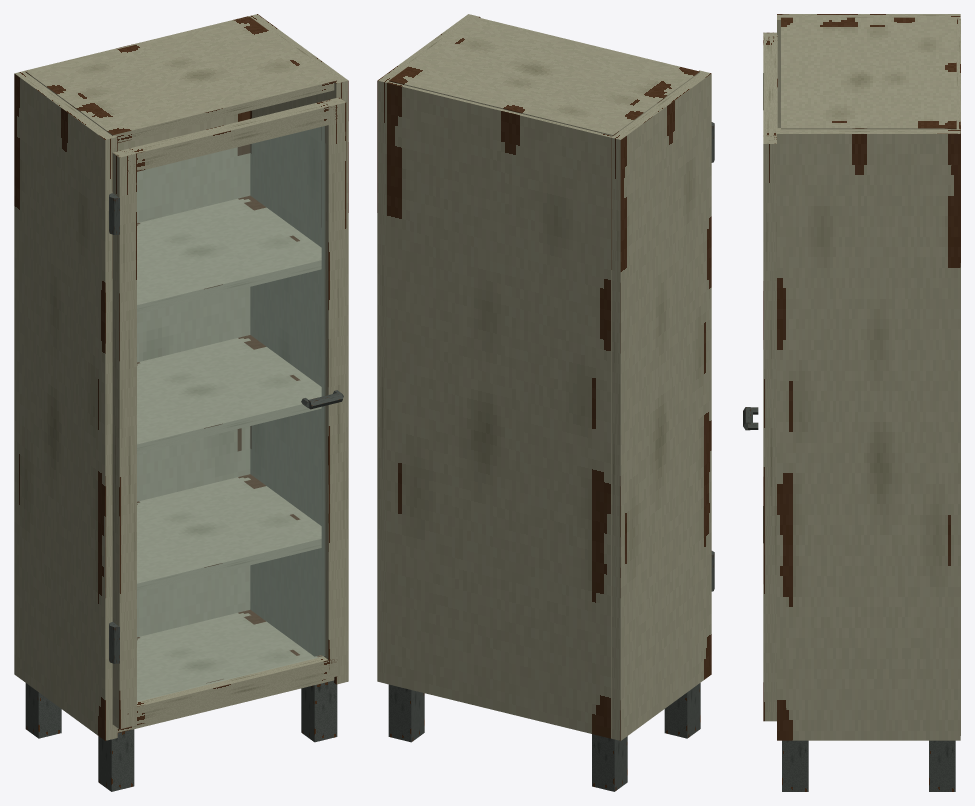
The model's file is medicine_cabinet.glb.
The picture shows the model from 3 angles, left to right: view 1: azimuth 30°, elevation 25°; view 2: azimuth 150°, elevation 25°; view 3: azimuth 270°, elevation 25°; orthographic projection.
Visible parts, largest first — view 1: 05_Medicine_Cabinet_Treatment_|_Shared_Pixel_Atlas.001, Cabinet_Glass.001, Medicine_Door_Hinge_Treatment_|_Shared_Pixel_Atlas.001; view 2: 05_Medicine_Cabinet_Treatment_|_Shared_Pixel_Atlas.001; view 3: 05_Medicine_Cabinet_Treatment_|_Shared_Pixel_Atlas.001, Medicine_Door_Hinge_Treatment_|_Shared_Pixel_Atlas.001.
Part boxes in pixels (x1=…): 05_Medicine_Cabinet_Treatment_|_Shared_Pixel_Atlas.001: x1=14, y1=14, x2=348, y2=791; Cabinet_Glass.001: x1=137, y1=126, x2=324, y2=701; Medicine_Door_Hinge_Treatment_|_Shared_Pixel_Atlas.001: x1=109, y1=97, x2=346, y2=729; 05_Medicine_Cabinet_Treatment_|_Shared_Pixel_Atlas.001: x1=377, y1=14, x2=711, y2=791; 05_Medicine_Cabinet_Treatment_|_Shared_Pixel_Atlas.001: x1=777, y1=14, x2=960, y2=791; Medicine_Door_Hinge_Treatment_|_Shared_Pixel_Atlas.001: x1=743, y1=32, x2=777, y2=721.
Bounding box in the file's own units: 0.695 × 1.79 × 0.5335.
Materials: 2 (1 with a texture image).
